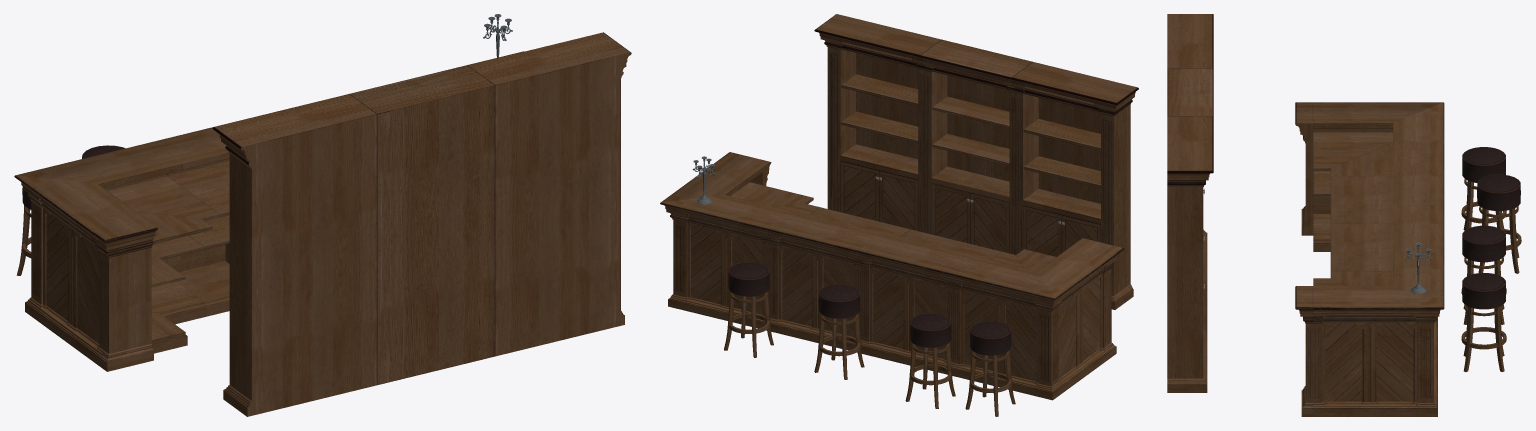
File: bar_cafe_de_normandy.fbx
3 renders of one model, left to right at view 1: azimuth 30°, elevation 25°; view 2: azimuth 150°, elevation 25°; view 3: azimuth 270°, elevation 25°, orthographic. The views are drawn at different scales.
Parts seen in each view (by area): view 1: re_bar_side_L (1); view 2: re_bar_side_L (1); view 3: re_bar_side_L (1).
Boxes of the visible parts, x1,y1,x2,y2 form: re_bar_side_L (1): (14,14,631,416); re_bar_side_L (1): (660,14,1138,416); re_bar_side_L (1): (1167,14,1521,416).
Bounding box in the file's own units: 433 × 220 × 315.
